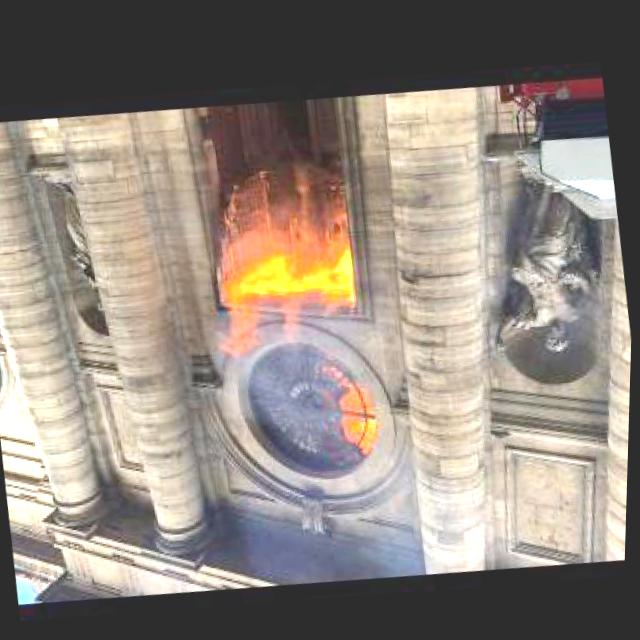helmet: (207, 216, 379, 363), (330, 373, 393, 462)
